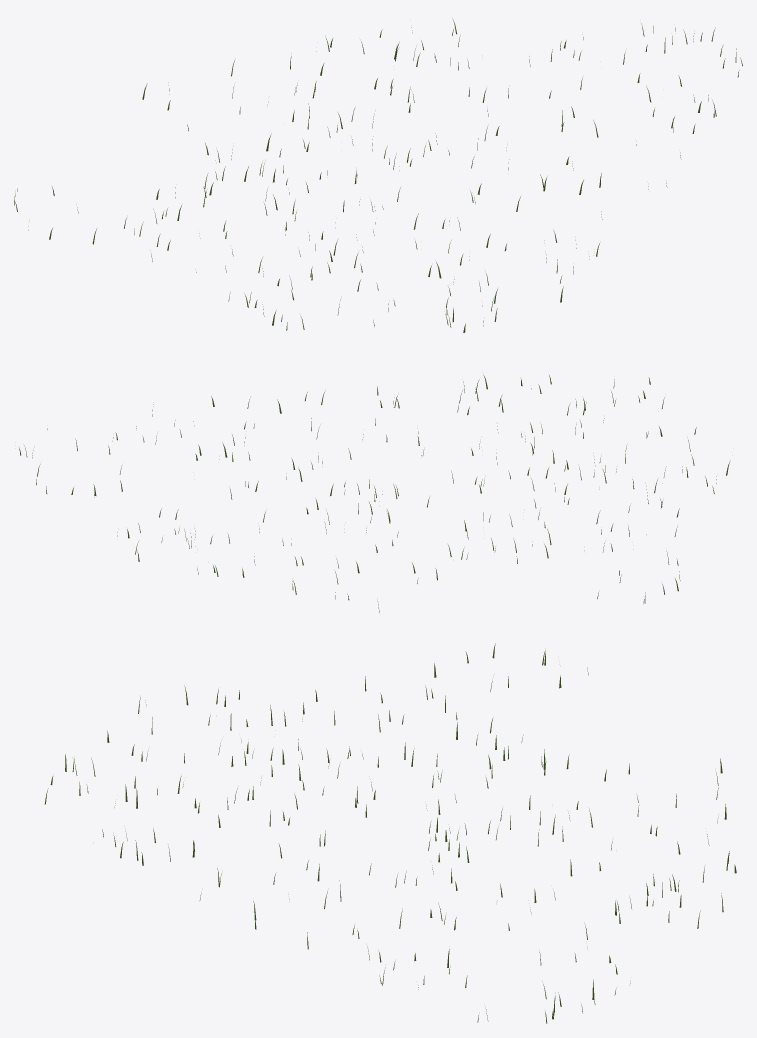
3 views of the same model, one above another, from view 1: azimuth 30°, elevation 25°; view 2: azimuth 150°, elevation 25°; view 3: azimuth 270°, elevation 25° (orthographic). The views are drawn at different scales.
Visible parts, largest first — view 1: GrassPatch; view 2: GrassPatch; view 3: GrassPatch.
Boxes of the visible parts, x1,y1,x2,y2 form: GrassPatch: (14, 20, 742, 332); GrassPatch: (19, 375, 730, 612); GrassPatch: (44, 643, 736, 1023).
Size of the model in its own units: 18.59 by 0.4911 by 15.6.
